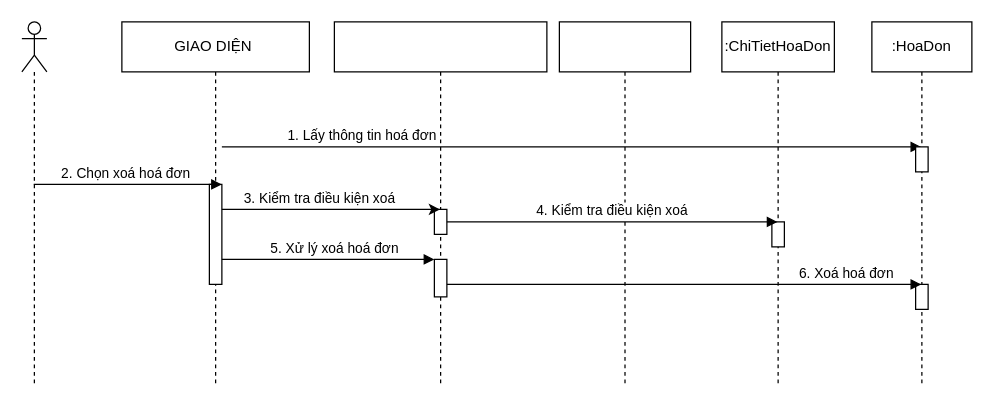
Image size: 994x406. Some labels were removed from this diagram. Each missing label, with the box of its shape:
:SanPham: (558, 21, 691, 384)
:XoaHoaDonController: (333, 21, 547, 384)
